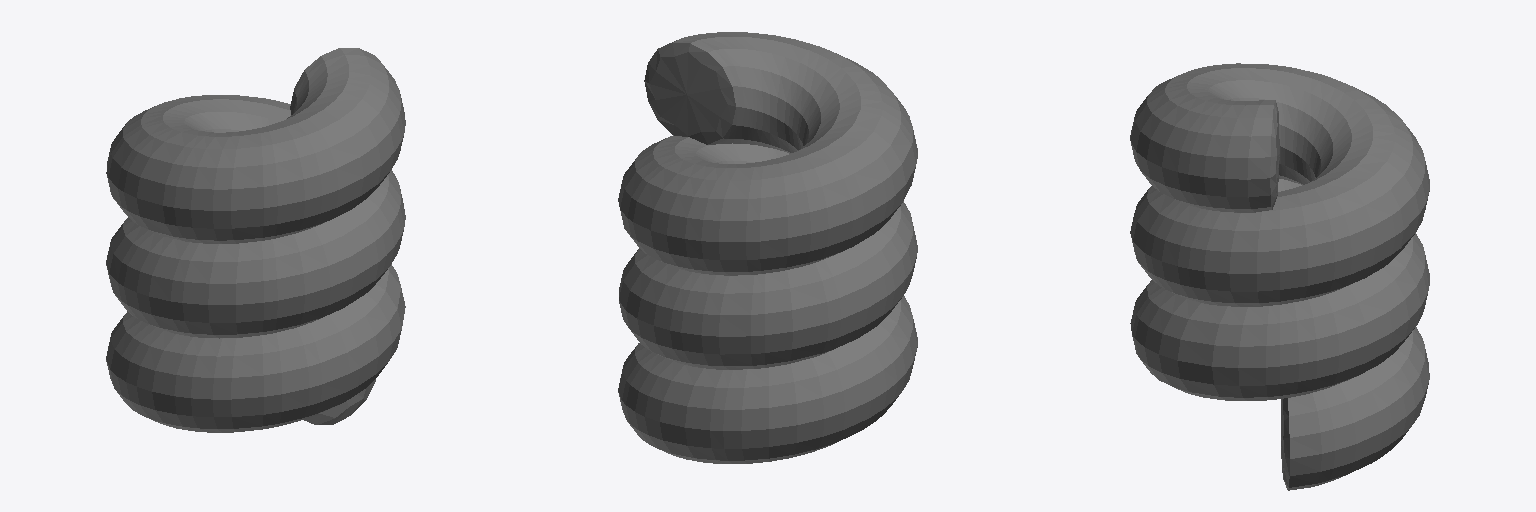
The model's file is helix_90.0.obj.
The picture shows the model from 3 angles: view 1: azimuth 30°, elevation 25°; view 2: azimuth 150°, elevation 25°; view 3: azimuth 270°, elevation 25°; orthographic projection.
Visible parts, largest first — view 1: helix:pHelix1; view 2: helix:pHelix1; view 3: helix:pHelix1.
Part boxes in pixels (x1,y1,x2,y2): helix:pHelix1: (106, 48, 405, 432); helix:pHelix1: (618, 32, 917, 463); helix:pHelix1: (1130, 63, 1429, 490).
Bounding box in the file's own units: 1.92 × 2.7 × 1.92.